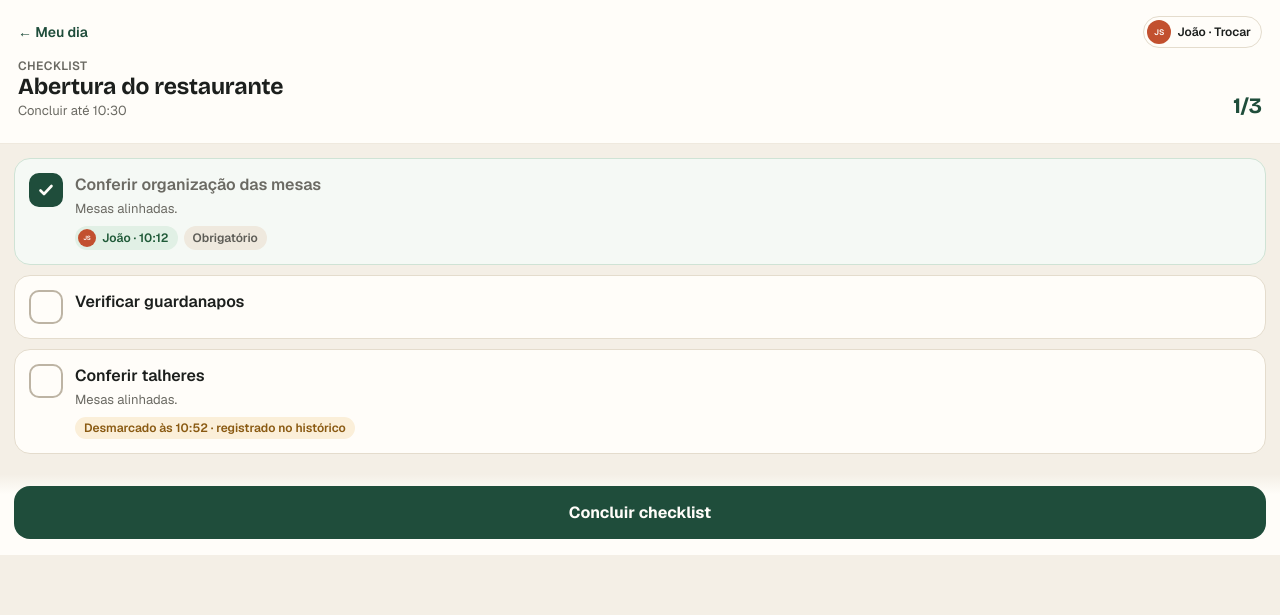
US04 — execução do checklist › marcar envia done=true e atualiza com a resposta (sucesso)
Click the button named "Marcar Verificar guardanapos" at (46, 307), box x1=29 y1=290 x2=63 y2=324
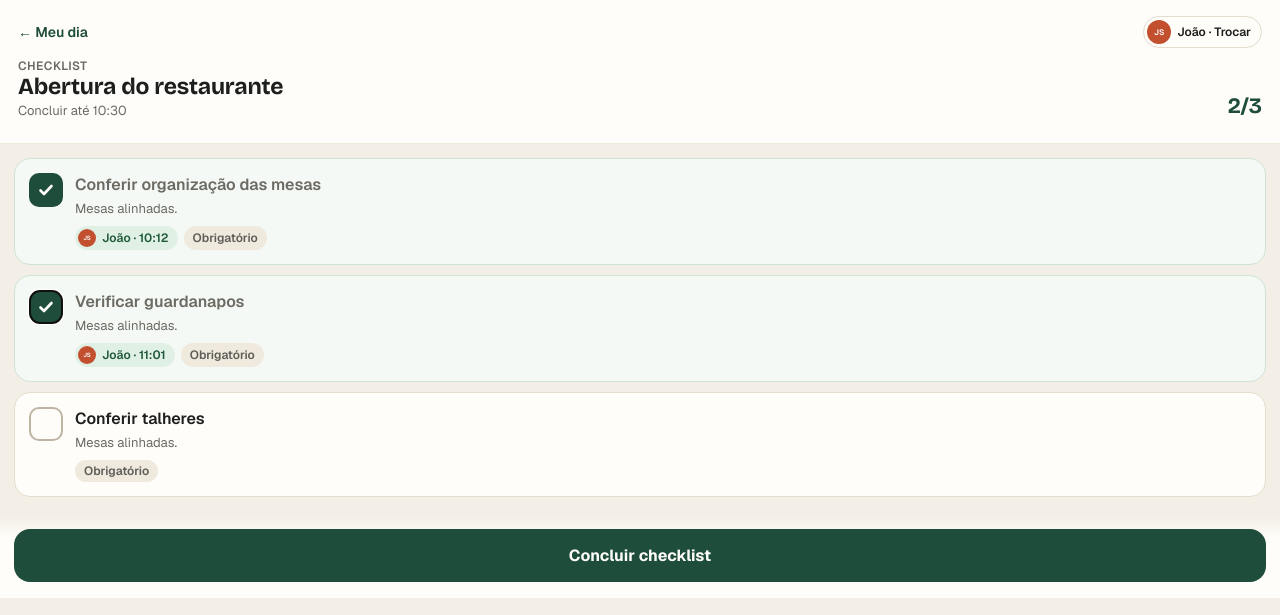
Check: the text "2/3" is shown, box x1=1228 y1=93 x2=1262 y2=119
Check: the text "João · 11:01" is shown, box x1=75 y1=343 x2=175 y2=367
